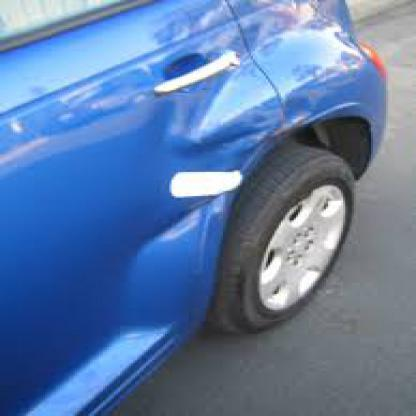dent: (177, 107, 263, 144)
